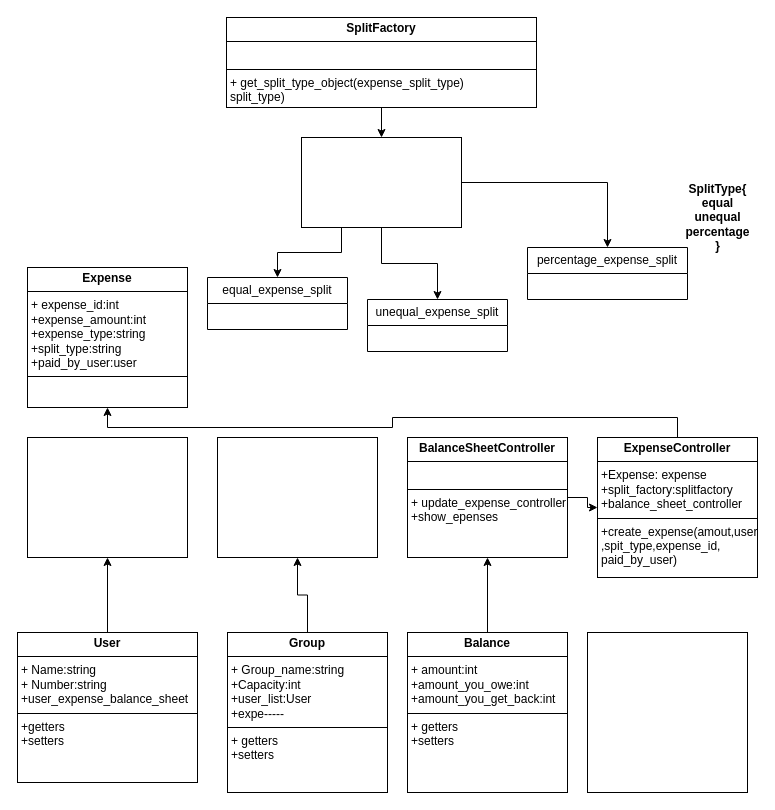
Image size: 775x810. Some labels were removed from this diagram. The centre of each missing label's shape, as x and y in pixels:
"Expense_split_type + validate_split_type_object( split_type,amount)" goes at (x=381, y=182).
"GroupController +Group_list:List<Group> + getters + setters" goes at (x=297, y=497).
"Split +User:User +amount:int split_type:splitType + getters +setters" goes at (x=667, y=712).
"UserController +User:List<user> + getters + setters" goes at (x=107, y=497).
